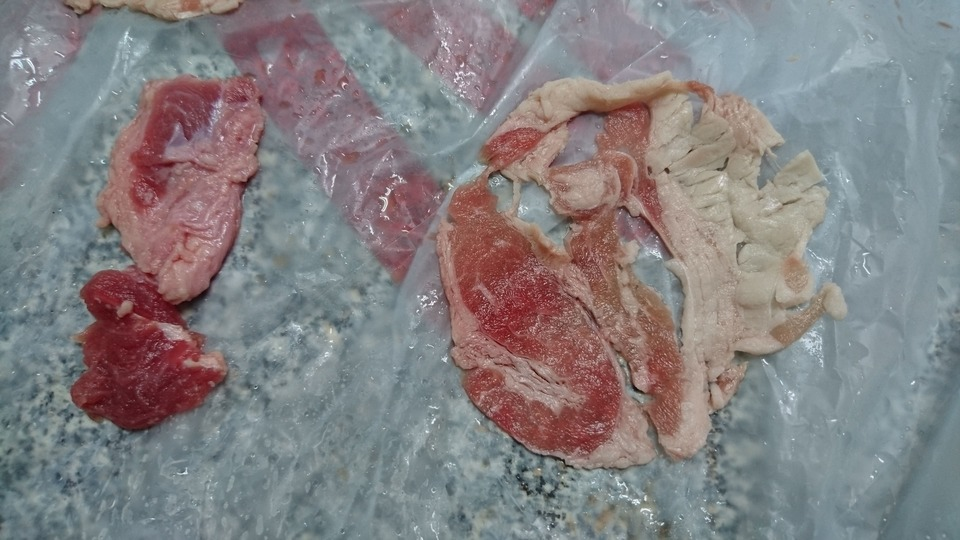restructured meat: (431, 72, 849, 462), (74, 68, 271, 439)
